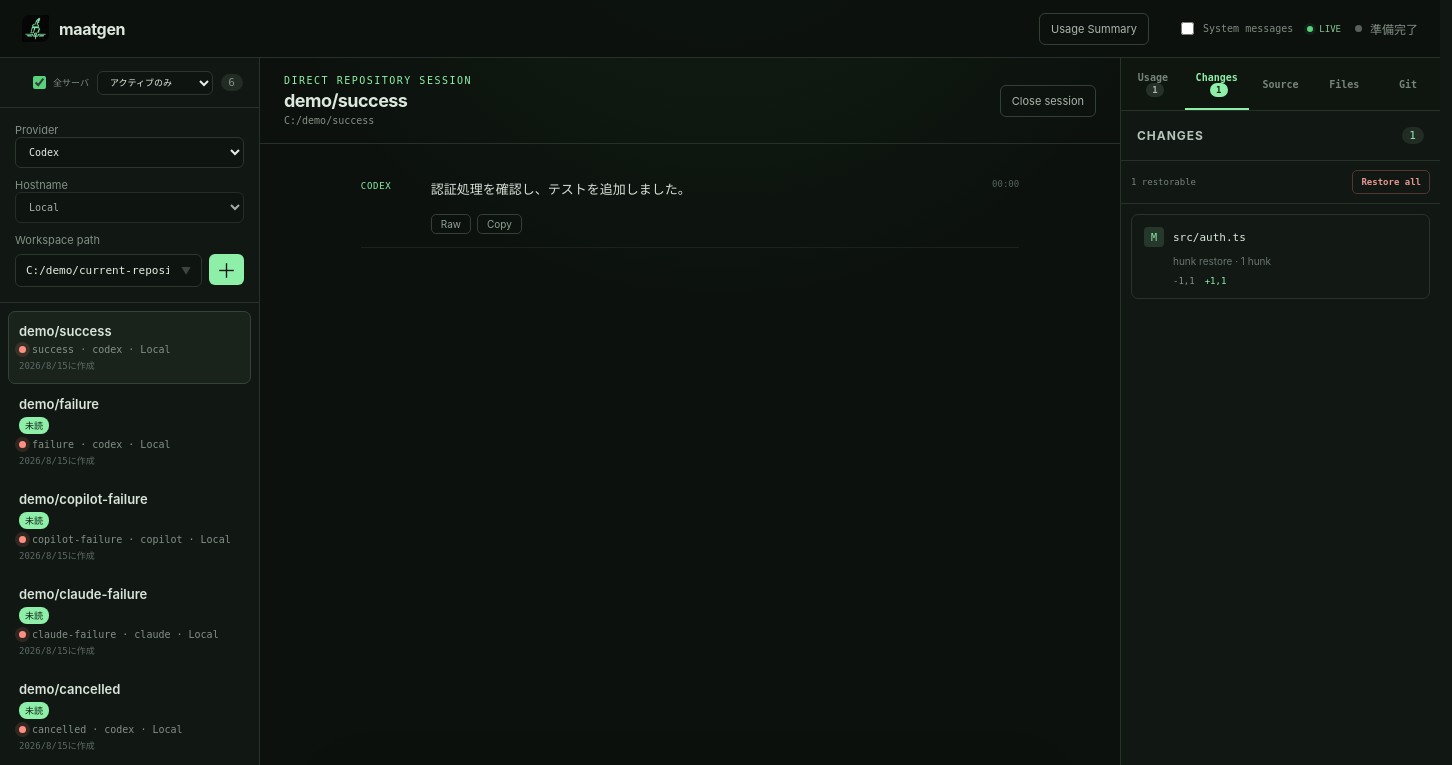
App with MockAgentApi › renders non-markdown files as plain source text
Click the tab with id "files-tab".
click(1344, 84)  # box [1312,58,1376,110]
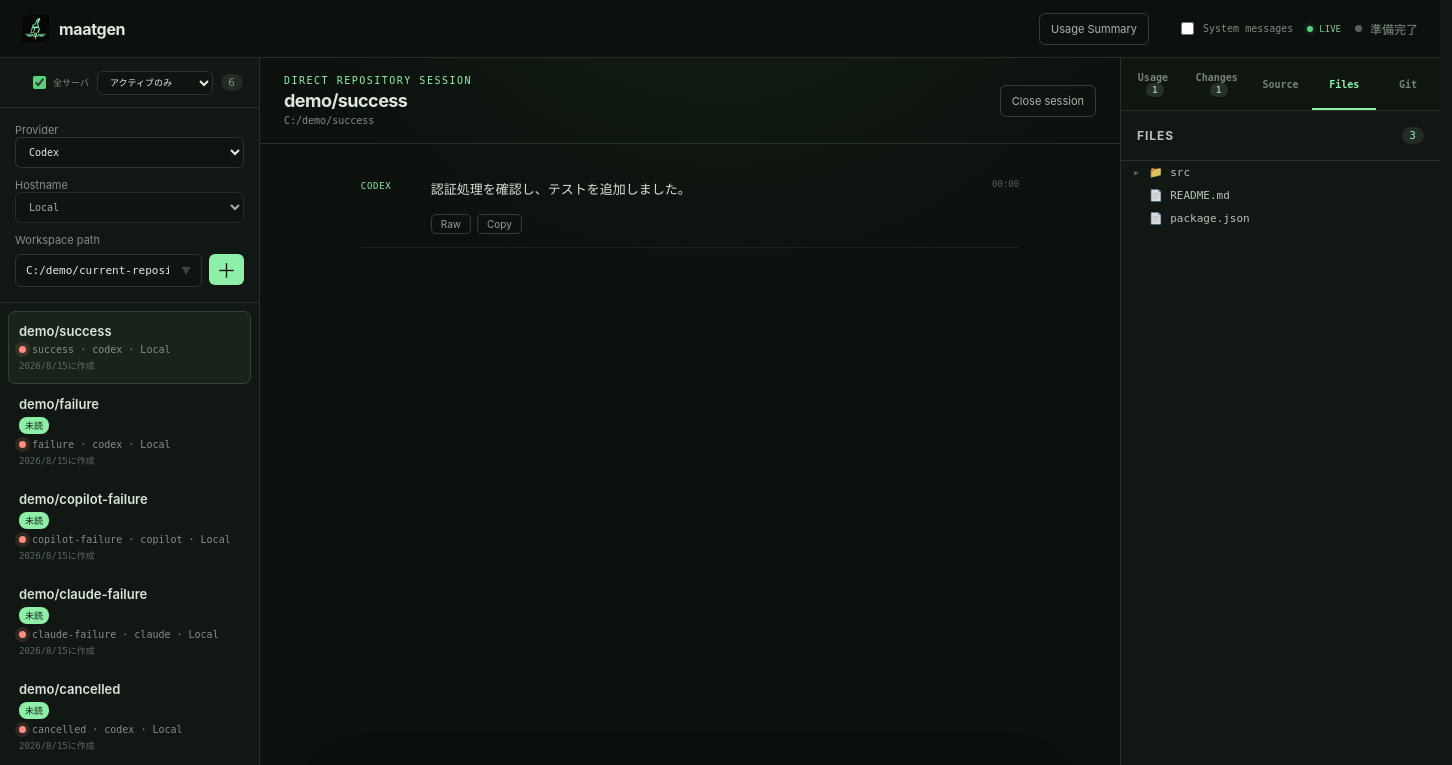
Click the button with class "file-tree-dir".
click(1136, 172)  # box [1127,161,1434,184]
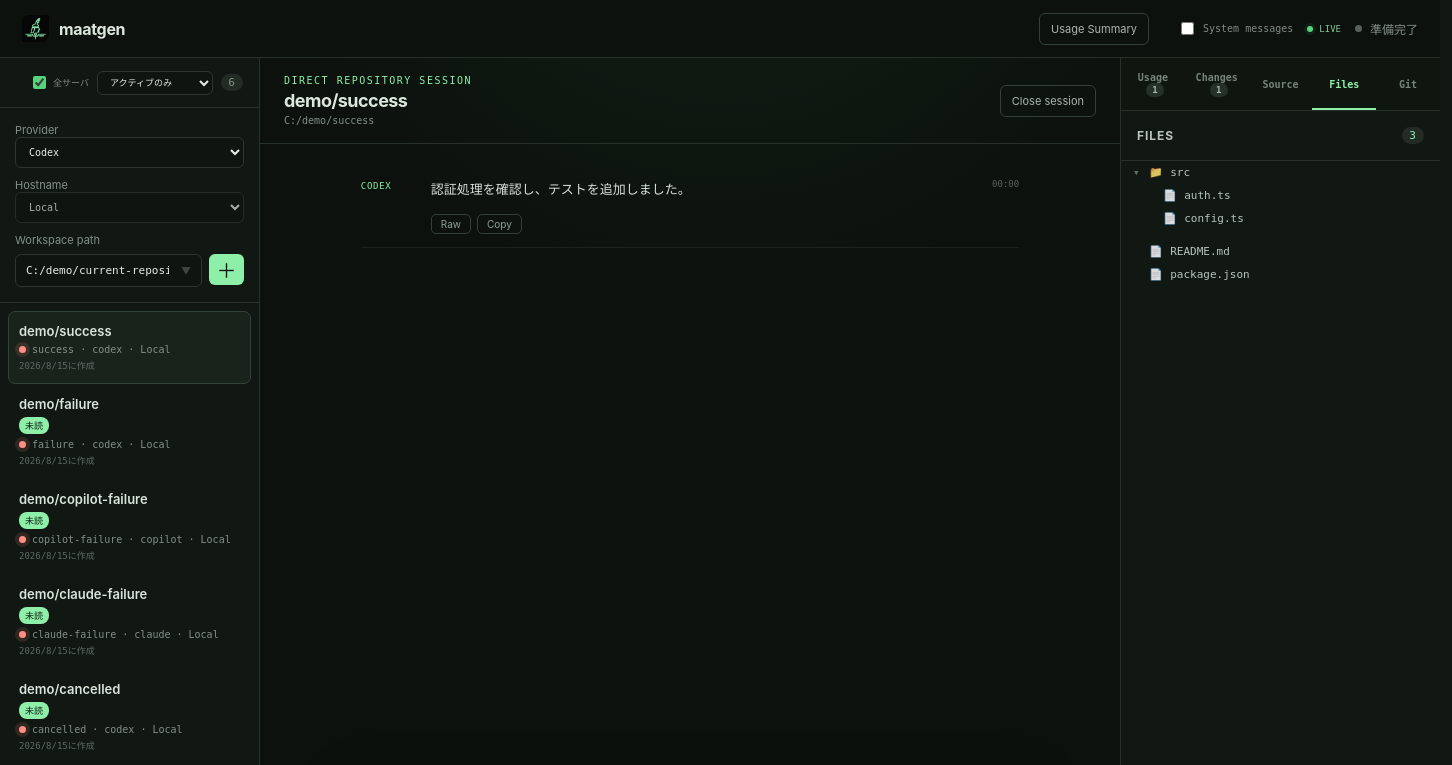
Click the button with class "file-tree-file" showing "📄 auth.ts".
click(1207, 196)  # box [1141,184,1428,207]
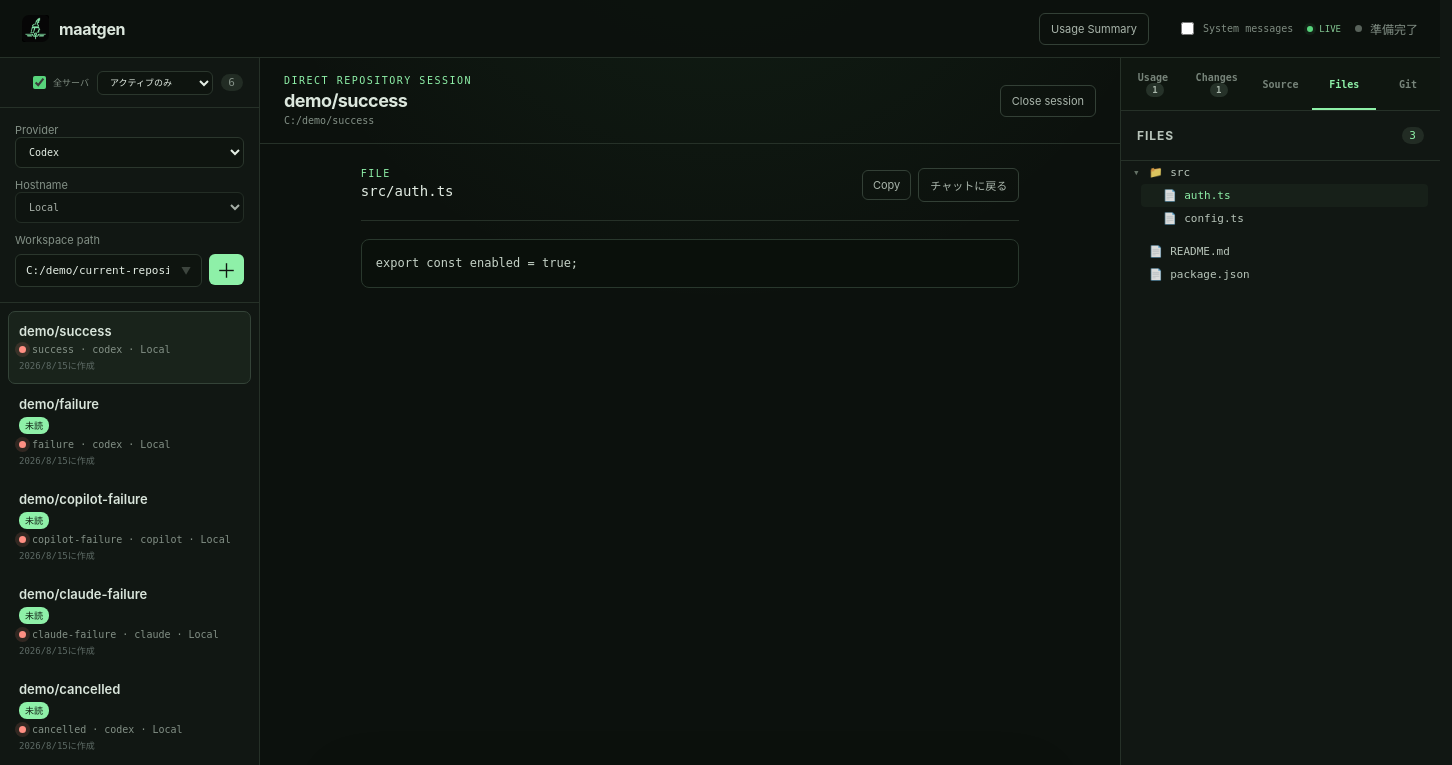
expect the text with class "file-view-source" reads "export const enabled = true;": met, box [376,256,578,270]
